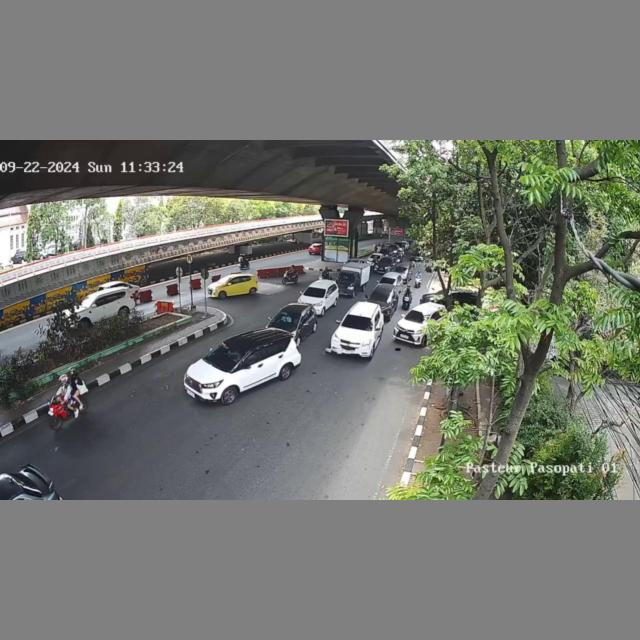windshield: (207, 340, 251, 372), (339, 314, 374, 332), (271, 310, 301, 329), (404, 308, 431, 326), (304, 286, 328, 299), (368, 290, 394, 302), (337, 271, 355, 282)
